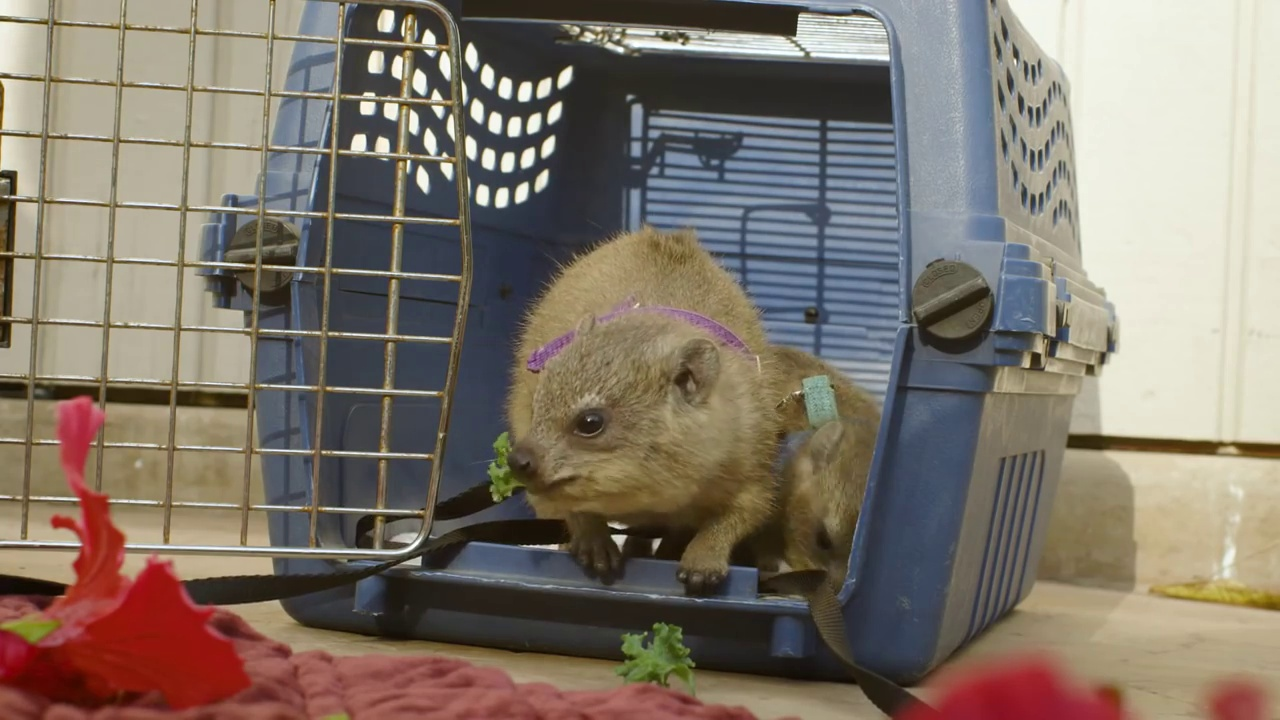Rock Hyrex: (504, 225, 770, 594), (760, 346, 889, 602)
